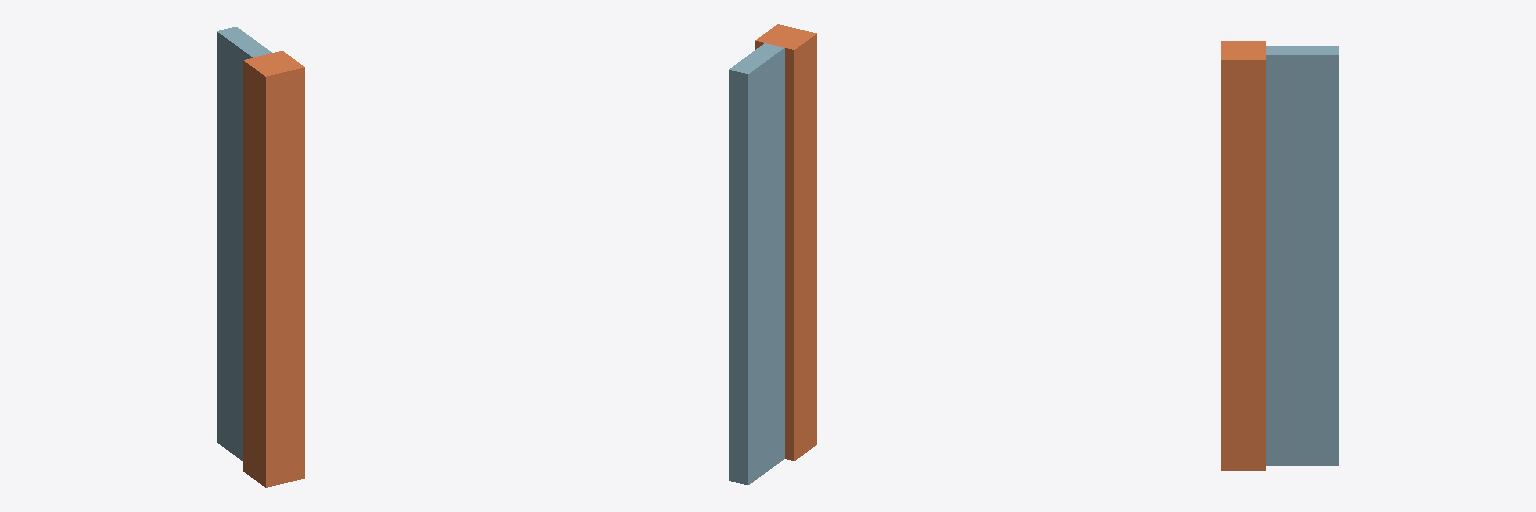
File: wallSide.obj
The picture shows the model from 3 angles: view 1: azimuth 30°, elevation 25°; view 2: azimuth 150°, elevation 25°; view 3: azimuth 270°, elevation 25°; orthographic projection.
Parts seen in each view (by area): view 1: wallSide; view 2: wallSide; view 3: wallSide.
Boxes of the visible parts, x1=… form: wallSide: x1=217, y1=27, x2=304, y2=487; wallSide: x1=729, y1=24, x2=816, y2=484; wallSide: x1=1221, y1=41, x2=1338, y2=470.
Bounding box in the file's own units: 0.1 × 1 × 0.26.